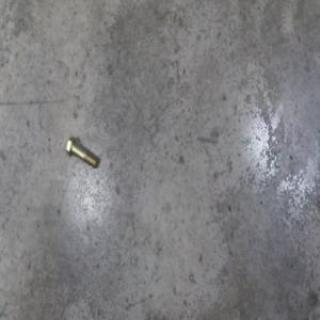Bolttrack_idkeyframe: (65, 134, 97, 170)
